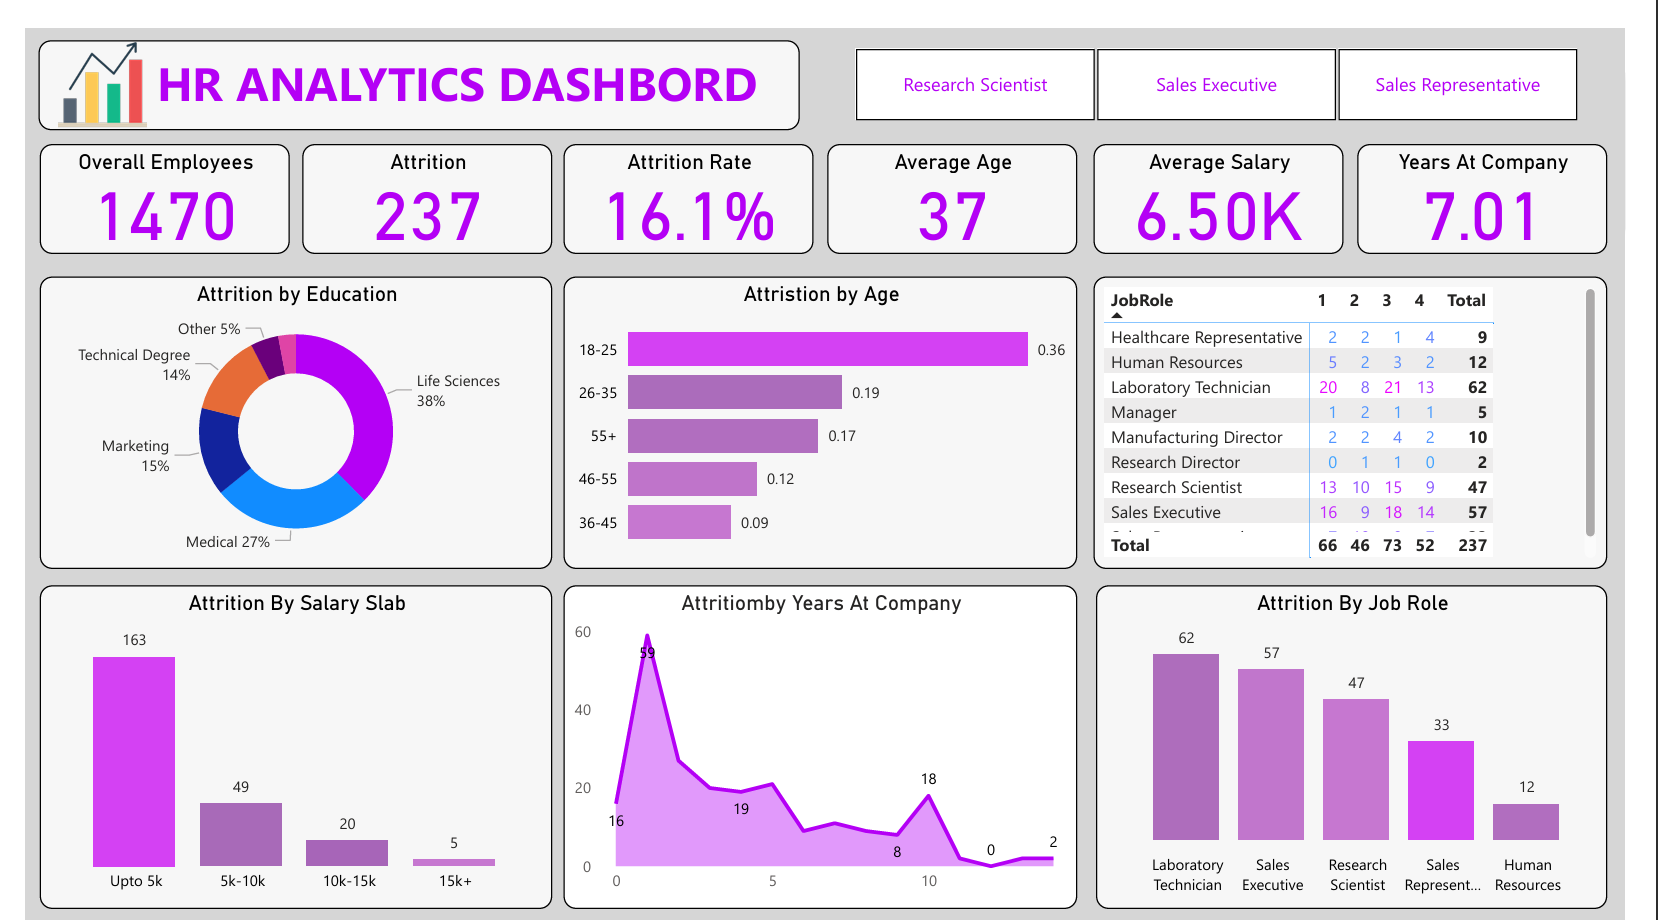

What the dashboard file says about the page in this screenshot:
{"tool":"powerbi","page":{"name":"HR ANALYTICS DASHBORD","canvas":[1280,720],"ordinal":0},"visuals":[{"type":"card","title":"Overall Employees","fields":{"Values":["Sum(HR_Analytics.EmployeeCount)"]},"box":[11,91.9,200.3,87.8],"z":0},{"type":"card","title":"Attrition","fields":{"Values":["Sum(HR_Analytics.AttritionCount)"]},"box":[220.9,91.9,200.3,87.8],"z":1000},{"type":"card","title":"Attrition Rate","fields":{"Values":["HR_Analytics.AttritionRate"]},"box":[429.5,91.9,200.3,87.8],"z":2000},{"type":"card","title":"Average Age","fields":{"Values":["Avg(HR_Analytics.Age)"]},"box":[640.8,91.9,200.3,87.8],"z":3000},{"type":"card","title":"Average  Salary","fields":{"Values":["Avg(HR_Analytics.MonthlyIncome)"]},"box":[853.5,91.9,200.3,87.8],"z":4000},{"type":"card","title":"Years At Company","fields":{"Values":["Avg(HR_Analytics.YearsAtCompany)"]},"box":[1064.8,91.9,200.3,87.8],"z":5000},{"type":"textbox","box":[10.5,9.3,608.1,72.1],"z":6000},{"type":"donutChart","title":"Attrition by Education","fields":{"Y":["Sum(HR_Analytics.AttritionCount)"],"Category":["HR_Analytics.EducationField"]},"box":[11,197.6,410.3,234.6],"z":7000},{"type":"clusteredBarChart","title":"Attristion by Age","fields":{"Y":["Avg(HR_Analytics.AttritionCount)"],"Category":["HR_Analytics.AgeGroup"]},"box":[429.5,197.6,411.7,234.6],"z":8000},{"type":"pivotTable","fields":{"Rows":["HR_Analytics.JobRole"],"Columns":["HR_Analytics.JobSatisfaction"],"Values":["Sum(HR_Analytics.AttritionCount)"]},"box":[853.5,197.6,411.7,234.6],"z":9000},{"type":"columnChart","title":"Attrition By Salary Slab","fields":{"Y":["Sum(HR_Analytics.AttritionCount)"],"Category":["HR_Analytics.SalarySlab"]},"box":[11,444.6,410.3,259.3],"z":10000},{"type":"areaChart","title":"Attritiomby Years At Company","fields":{"Y":["Sum(HR_Analytics.AttritionCount)"],"Category":["HR_Analytics.YearsAtCompany"]},"box":[429.5,444.6,411.7,259.3],"z":11000},{"type":"clusteredColumnChart","title":" Attrition By Job Role","fields":{"Category":["HR_Analytics.JobRole"],"Y":["Sum(HR_Analytics.AttritionCount)"]},"box":[856.3,444.6,408.9,259.3],"z":12000},{"type":"slicer","fields":{"Values":["HR_Analytics.JobRole"]},"box":[638.4,9.3,626.7,70.9],"z":13000},{"type":"image","box":[11,4.1,100.2,81],"z":14000}]}

Visuals, with their boxes in screenshot pixels (x1, y1, x2, y2), scaled from the page's 1280x720 canvas onto the 1658x920 screenshot:
"Overall Employees" card: x1=14 y1=117 x2=274 y2=230
"Attrition" card: x1=286 y1=117 x2=546 y2=230
"Attrition Rate" card: x1=556 y1=117 x2=816 y2=230
"Average Age" card: x1=830 y1=117 x2=1089 y2=230
"Average  Salary" card: x1=1106 y1=117 x2=1365 y2=230
"Years At Company" card: x1=1379 y1=117 x2=1639 y2=230
textbox: x1=14 y1=12 x2=801 y2=104
"Attrition by Education" donutChart: x1=14 y1=252 x2=546 y2=552
"Attristion by Age" clusteredBarChart: x1=556 y1=252 x2=1090 y2=552
pivotTable - HR_Analytics.JobRole x HR_Analytics.JobSatisfaction: x1=1106 y1=252 x2=1639 y2=552
"Attrition By Salary Slab" columnChart: x1=14 y1=568 x2=546 y2=899
"Attritiomby Years At Company" areaChart: x1=556 y1=568 x2=1090 y2=899
" Attrition By Job Role" clusteredColumnChart: x1=1109 y1=568 x2=1639 y2=899
slicer - HR_Analytics.JobRole: x1=827 y1=12 x2=1639 y2=102
image: x1=14 y1=5 x2=144 y2=109
